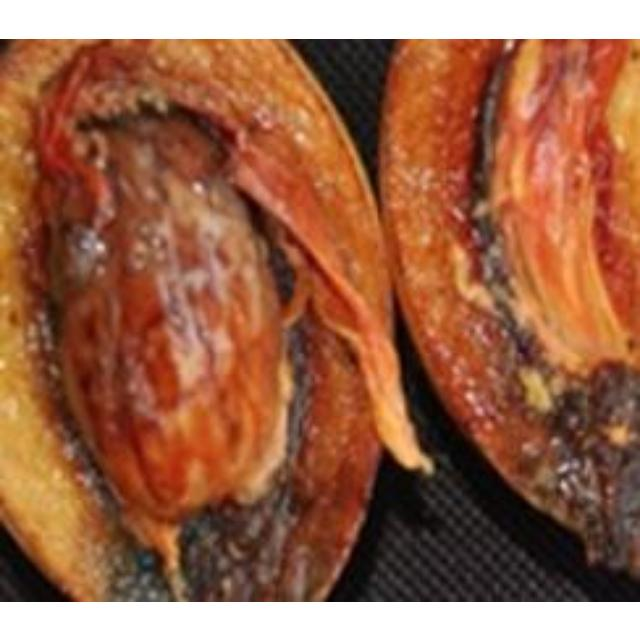damaged: (3, 38, 435, 599), (378, 38, 637, 584)
